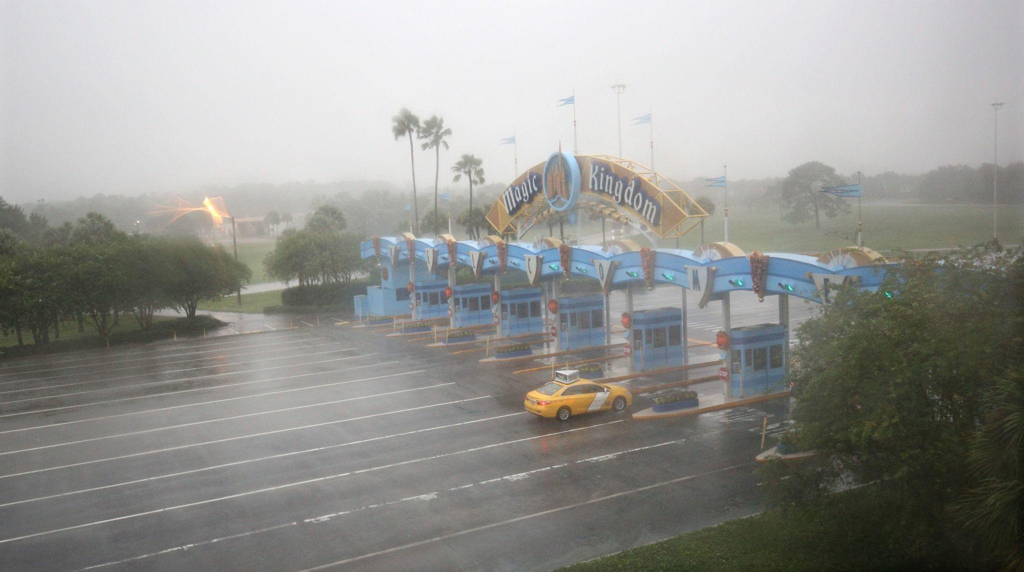car: (523, 369, 634, 423)
